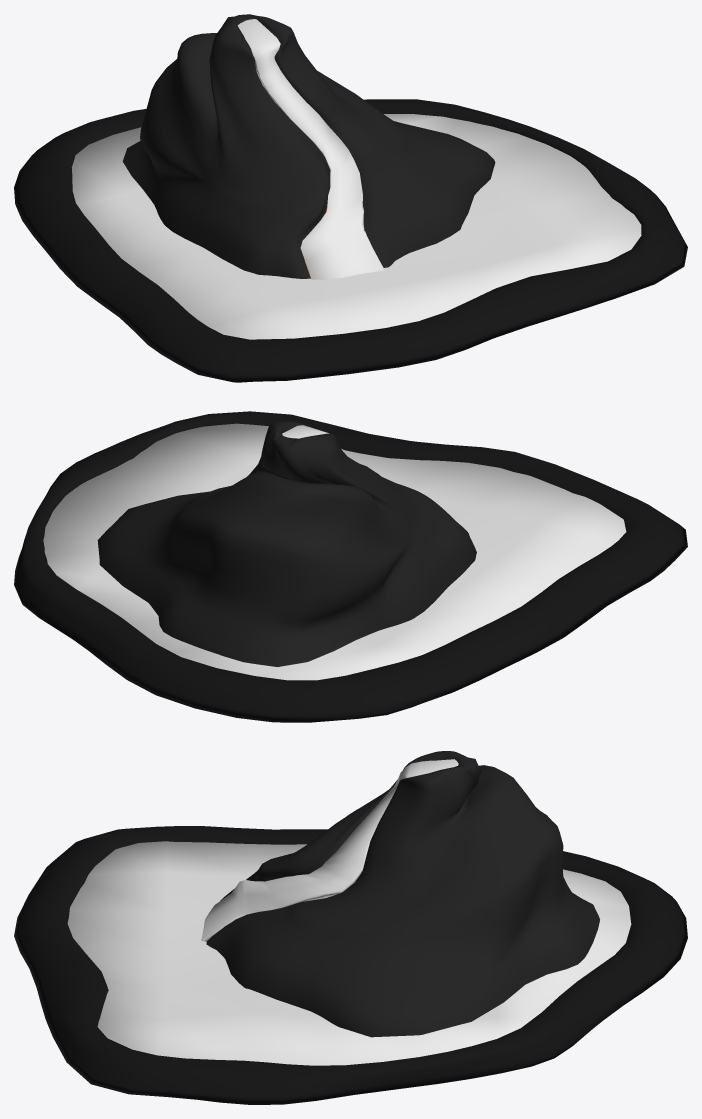
Rendered from LavaMountain.fbx.
3 views of the same model, one above another, from view 1: azimuth 30°, elevation 25°; view 2: azimuth 150°, elevation 25°; view 3: azimuth 270°, elevation 25° (orthographic). The views are drawn at different scales.
Visible parts, largest first — view 1: Montain, LavaAlt, Kenar, LavaAkan; view 2: Montain, Kenar, LavaAlt; view 3: Montain, LavaAlt, Kenar, LavaAkan.
Part boxes in pixels (x1,y1,x2,y2): Montain: (122, 14, 495, 278); LavaAlt: (71, 114, 641, 339); Kenar: (14, 99, 687, 382); LavaAkan: (237, 19, 384, 279); Montain: (97, 421, 476, 666); Kenar: (14, 411, 687, 722); LavaAlt: (43, 423, 626, 680); Montain: (206, 751, 599, 1037); LavaAlt: (67, 841, 631, 1065); Kenar: (14, 826, 687, 1104); LavaAkan: (201, 759, 458, 941).
Bounding box in the file's own units: 21.29 × 7.07 × 22.34.
1 material, 1 textured.
